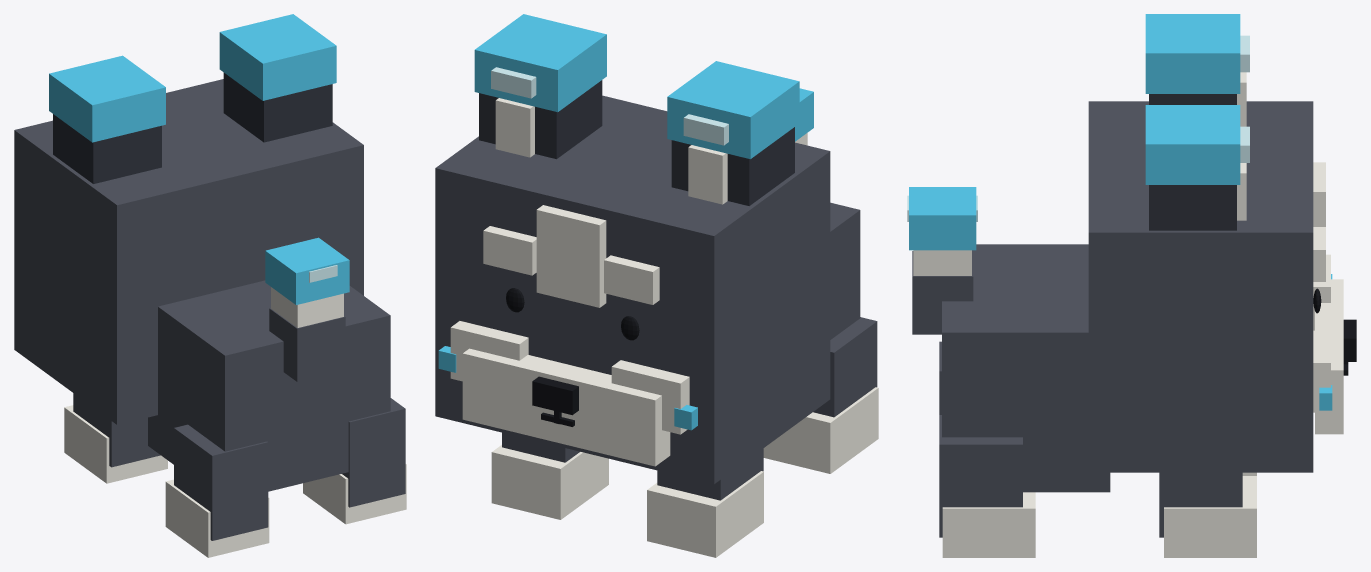
The model's file is Husky_Block.obj.
The picture shows the model from 3 angles, left to right: view 1: azimuth 30°, elevation 25°; view 2: azimuth 150°, elevation 25°; view 3: azimuth 270°, elevation 25°; orthographic projection. The views are drawn at different scales.
Parts seen in each view (by area): view 1: BigHead, ShortTorso, LegBL_Leg, EarIceCapR, EarIceCapL, LegBR_Leg, TallEarR, TallEarL, TailIceTip, TailRoot, LegBL_Paw, LegFL_Paw (+3 smaller); view 2: BigHead, WhiteMuzzle, EarIceCapL, EarIceCapR, LegFL_Paw, LegFR_Paw, MaskBlaze, LegBL_Paw, TallEarL, TallEarR, LegBL_Leg, ShortTorso (+12 smaller); view 3: BigHead, ShortTorso, EarIceCapL, EarIceCapR, LegBR_Leg, LegFR_Paw, LegBR_Paw, TailIceTip, TallEarR, LegFR_Leg, WhiteMuzzle, TailRoot (+6 smaller).
Part boxes in pixels (x1,y1,x2,y2): BigHead: (14,79,363,424); ShortTorso: (148,280,390,491); LegBL_Leg: (174,424,268,540); EarIceCapR: (219,14,336,100); EarIceCapL: (49,55,165,142); LegBR_Leg: (342,398,405,507); TallEarR: (223,72,332,142); TallEarL: (53,114,161,183); TailIceTip: (265,237,349,304); TailRoot: (269,308,345,381); LegBL_Paw: (165,479,269,557); LegFL_Paw: (64,405,167,483); BigHead: (435,95,830,484); WhiteMuzzle: (462,348,670,466); EarIceCapL: (667,61,799,159); EarIceCapR: (474,14,606,112); LegFL_Paw: (647,471,763,557); LegFR_Paw: (491,445,608,519); MaskBlaze: (536,205,606,307); LegBL_Paw: (763,387,878,473); TallEarL: (671,127,794,205); TallEarR: (479,80,602,159); LegBL_Leg: (813,317,877,417); ShortTorso: (830,202,860,339); BigHead: (1088,101,1313,472); ShortTorso: (942,244,1110,492); EarIceCapL: (1145,14,1240,93); EarIceCapR: (1145,105,1240,184); LegBR_Leg: (939,415,1022,537); LegFR_Paw: (1164,476,1256,557); LegBR_Paw: (942,492,1035,557); TailIceTip: (909,187,976,250); TallEarR: (1149,185,1236,230); LegFR_Leg: (1159,472,1242,537); WhiteMuzzle: (1315,279,1343,434); TailRoot: (912,251,973,334).
Size of the model in its own units: 1.94 by 2.93 by 2.8.
